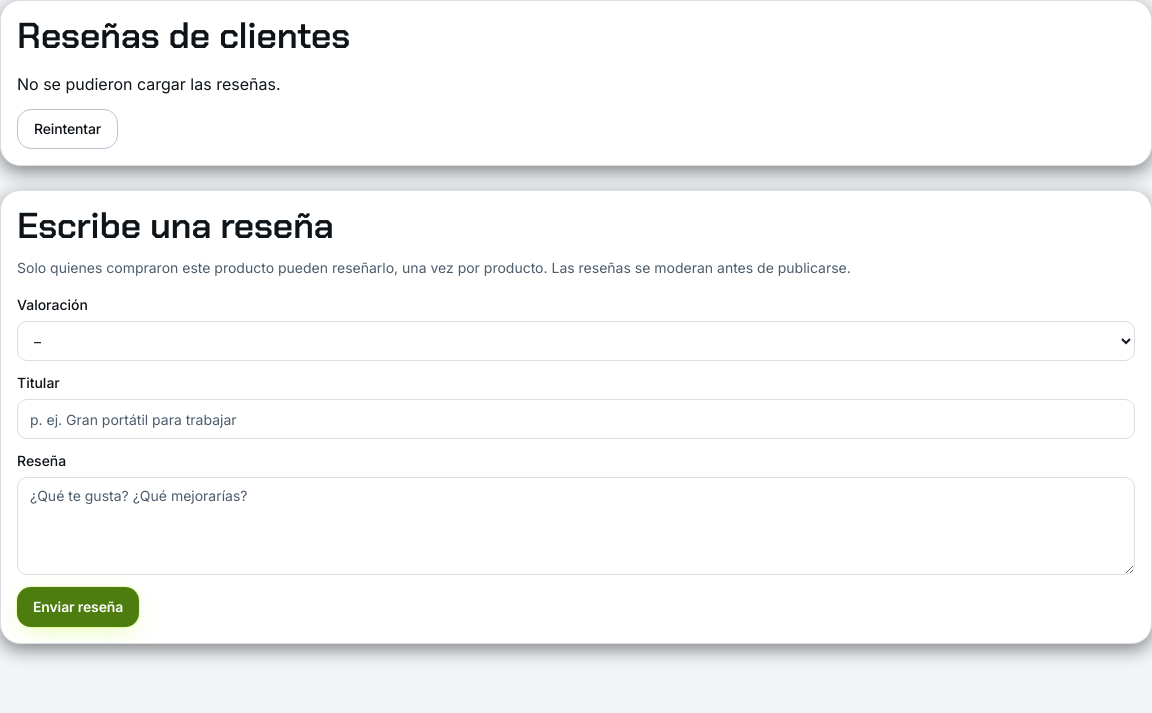
Test case: ProductReviews › retries after a load failure
Check: the message reads "No se pudieron cargar las reseñas.", box [17,74,280,94]
Step 1. Click the button "Reintentar" → (68, 129), box [17,109,118,149]
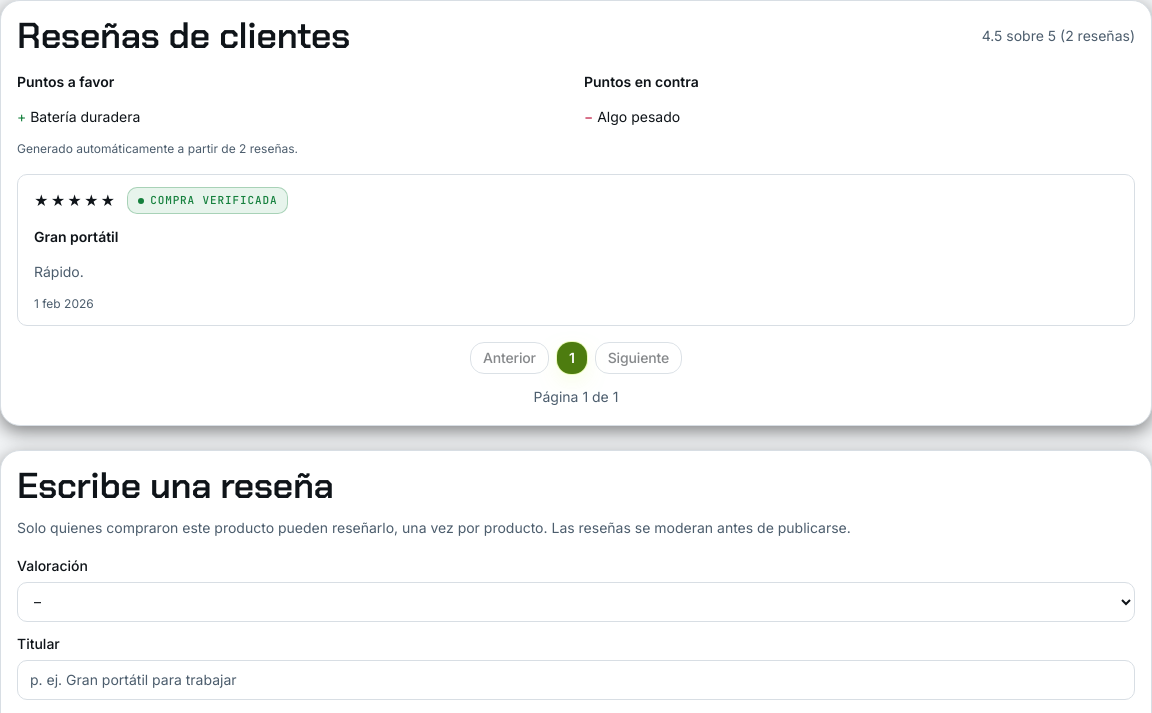
Check: the text "Gran portátil" is shown, box [34,228,118,245]
